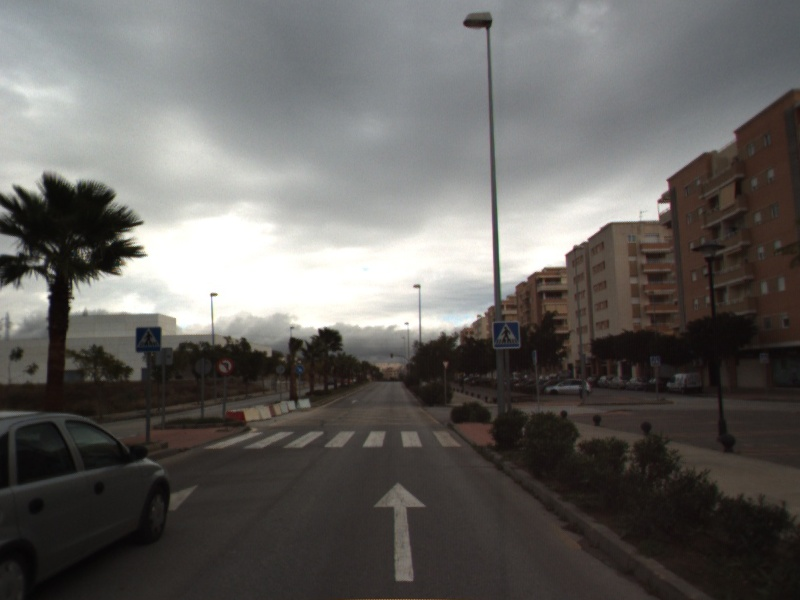STRAIGHT: (371, 480, 428, 583)
